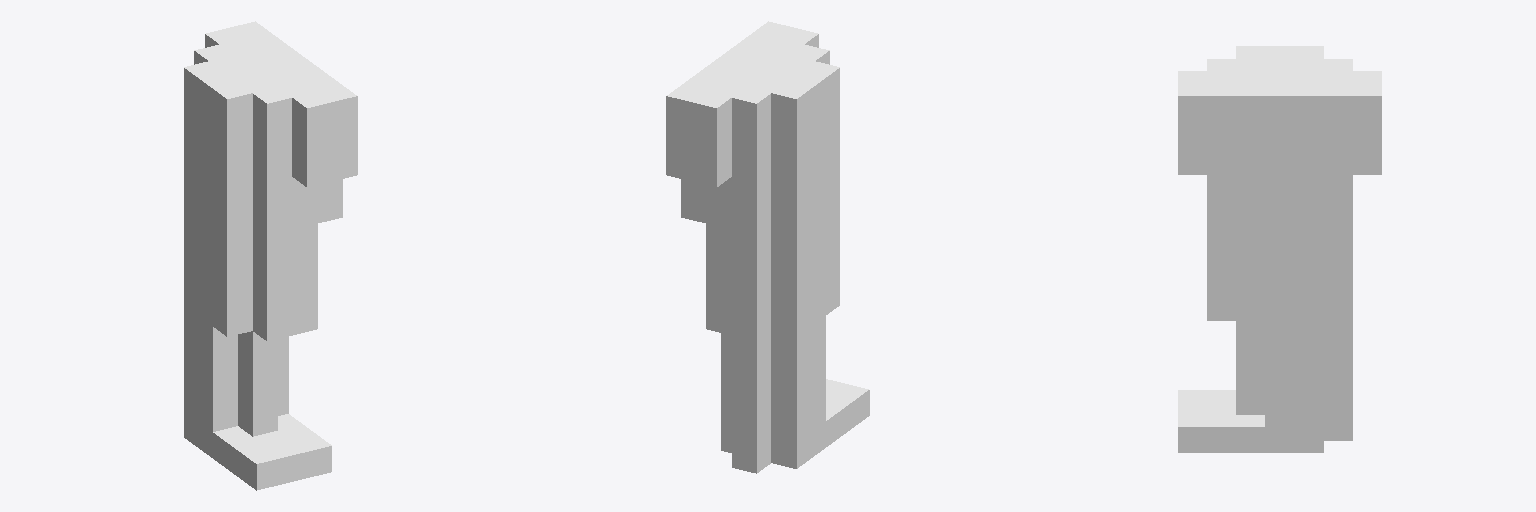
The model's file is char-125-leg_med_hvy_3_ja_du_color.obj.
3 renders of one model, left to right at view 1: azimuth 30°, elevation 25°; view 2: azimuth 150°, elevation 25°; view 3: azimuth 270°, elevation 25°, orthographic.
Visible parts, largest first — view 1: leg_med_hvy_3_ja_du_color; view 2: leg_med_hvy_3_ja_du_color; view 3: leg_med_hvy_3_ja_du_color.
Boxes of the visible parts, <box> form: leg_med_hvy_3_ja_du_color: <box>184,21,357,490</box>; leg_med_hvy_3_ja_du_color: <box>666,21,869,473</box>; leg_med_hvy_3_ja_du_color: <box>1178,46,1381,452</box>.
Bounding box in the file's own units: 0.4 × 1.4 × 0.7.